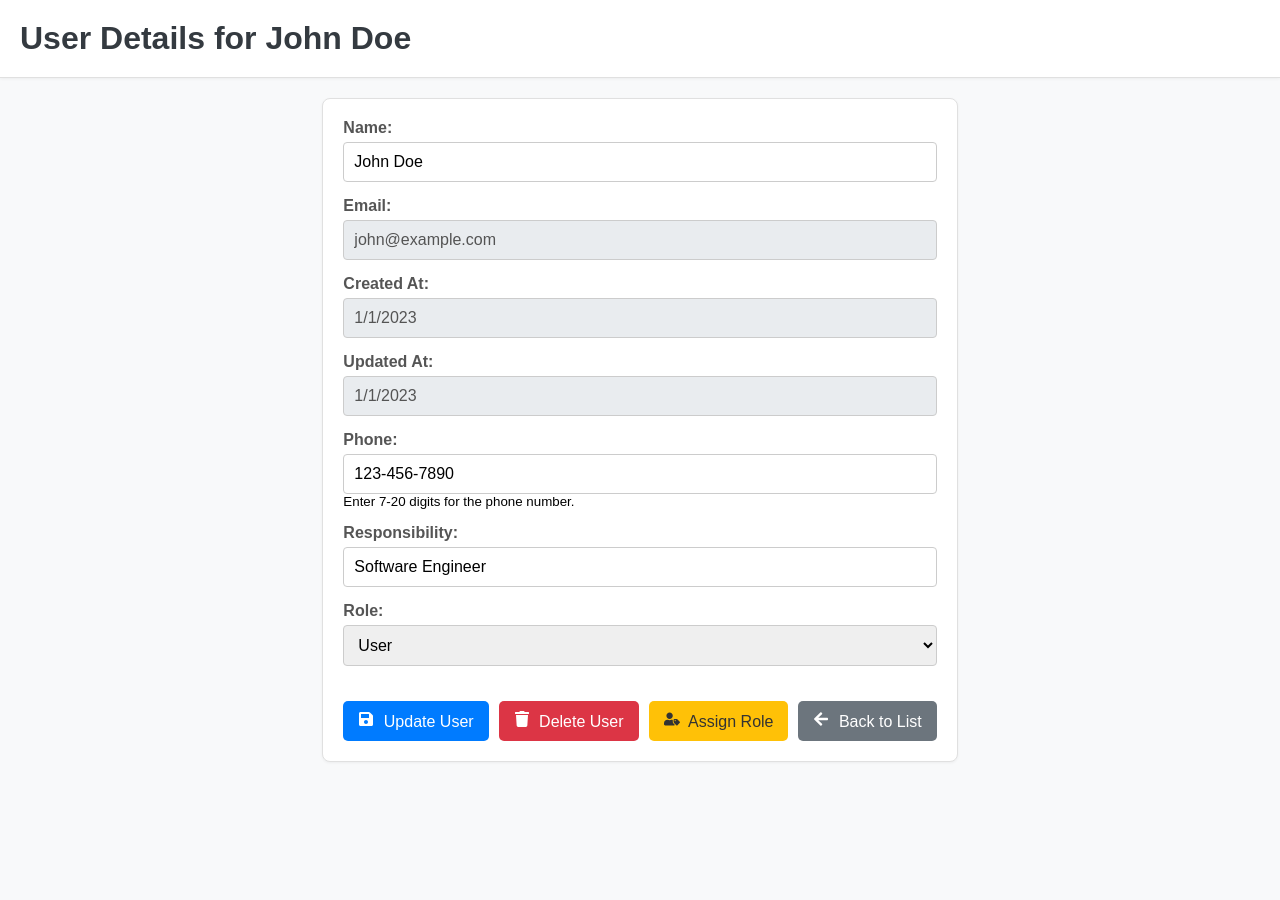
Test: UserDetailPage › handles user deletion
Expected: the field labelled "Name:" is shown, x1=343 y1=142 x2=937 y2=182
What coordinates should you click on to do the following:
click the button "Delete User"
I would click on:
 (569, 721)
Its box is x1=499 y1=701 x2=638 y2=741.
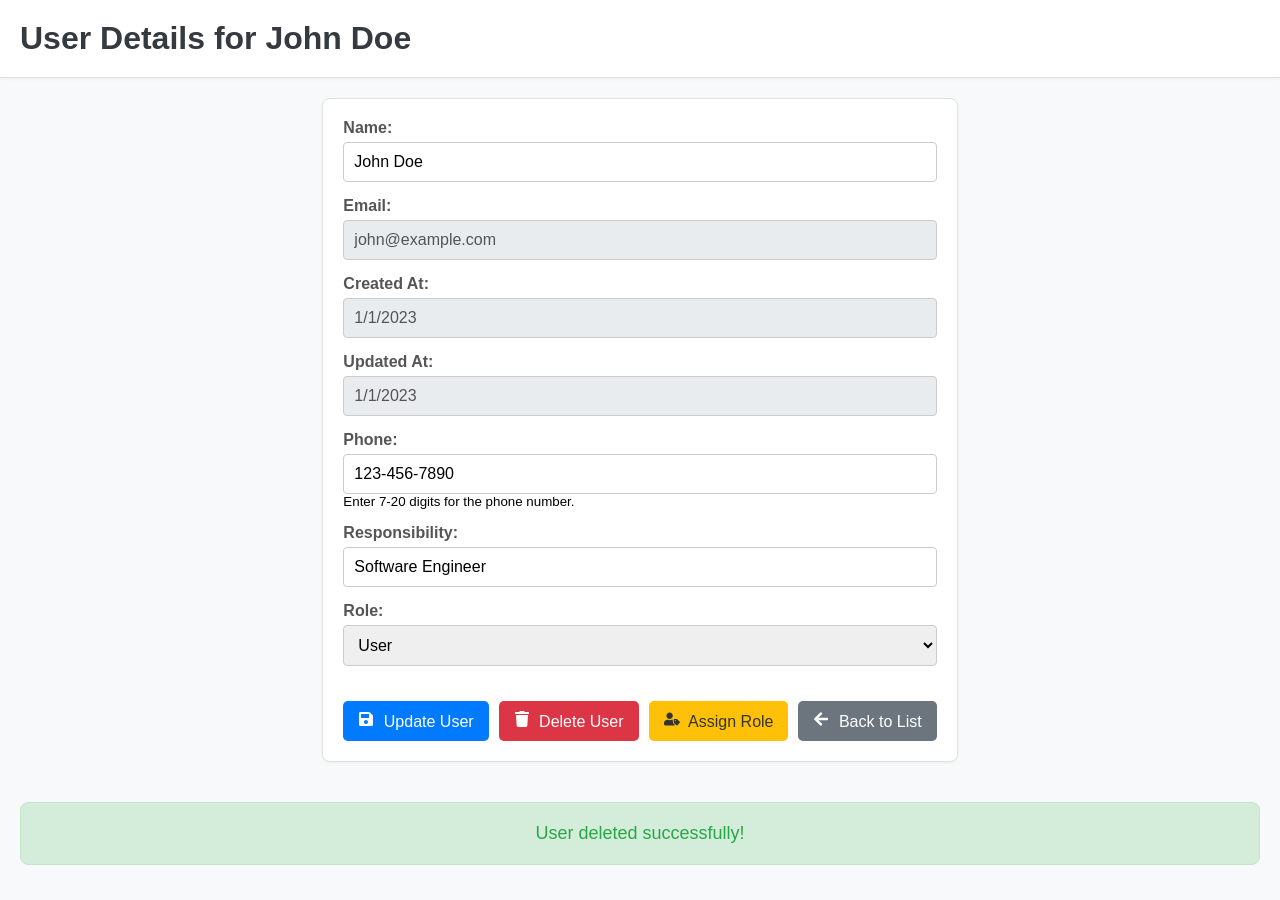
Now the text "User deleted successfully!" is shown, box x1=20 y1=802 x2=1260 y2=865
